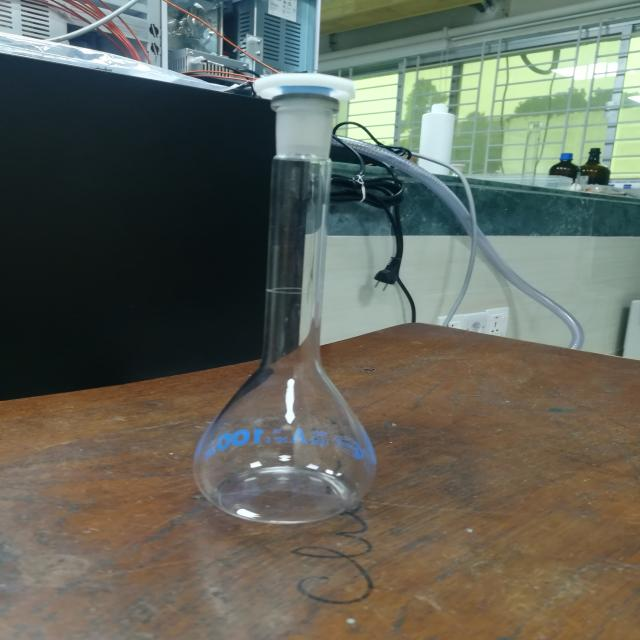Volumetric_Flask: (192, 36, 418, 542)
